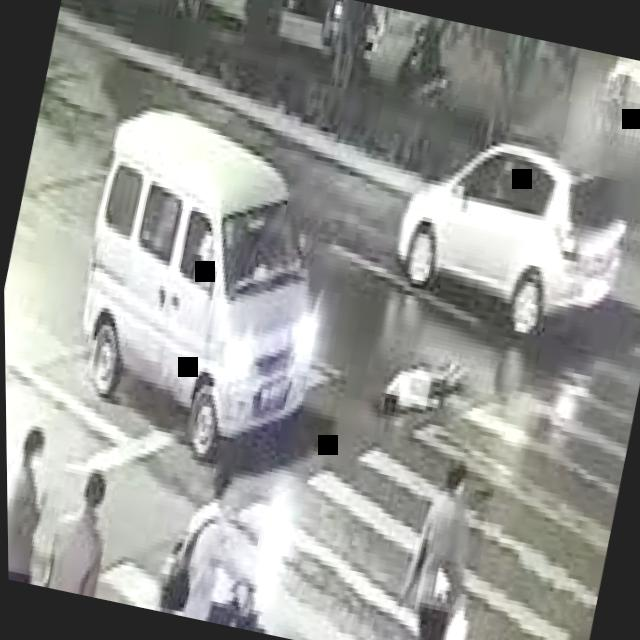Fall-Detected: (362, 320, 481, 435)
